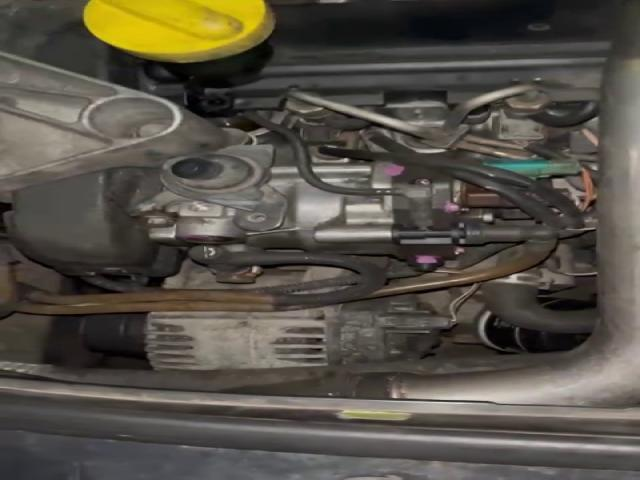alternator: (146, 306, 339, 369)
high_pressure_pump: (141, 162, 559, 270), (141, 164, 554, 270)
